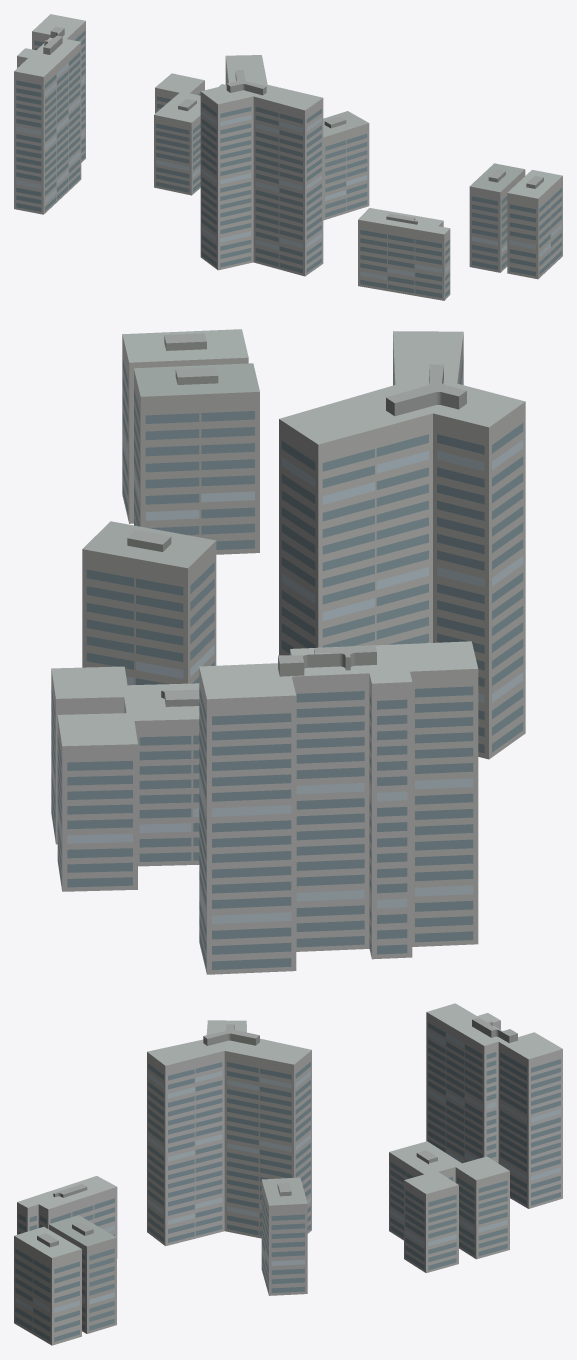
The model's file is apt-a12071002.glb.
3 renders of one model, top to bottom at view 1: azimuth 30°, elevation 25°; view 2: azimuth 150°, elevation 25°; view 3: azimuth 270°, elevation 25°, orthographic. The views are drawn at different scales.
Parts seen in each view (by area): view 1: apt-a12071002; view 2: apt-a12071002; view 3: apt-a12071002.
Part boxes in pixels (box(x1,y1,x2,y2)): apt-a12071002: box(14, 14, 562, 300); apt-a12071002: box(51, 329, 525, 974); apt-a12071002: box(14, 1003, 562, 1345).
Size of the model in its own units: 140 by 63.4 by 168.
